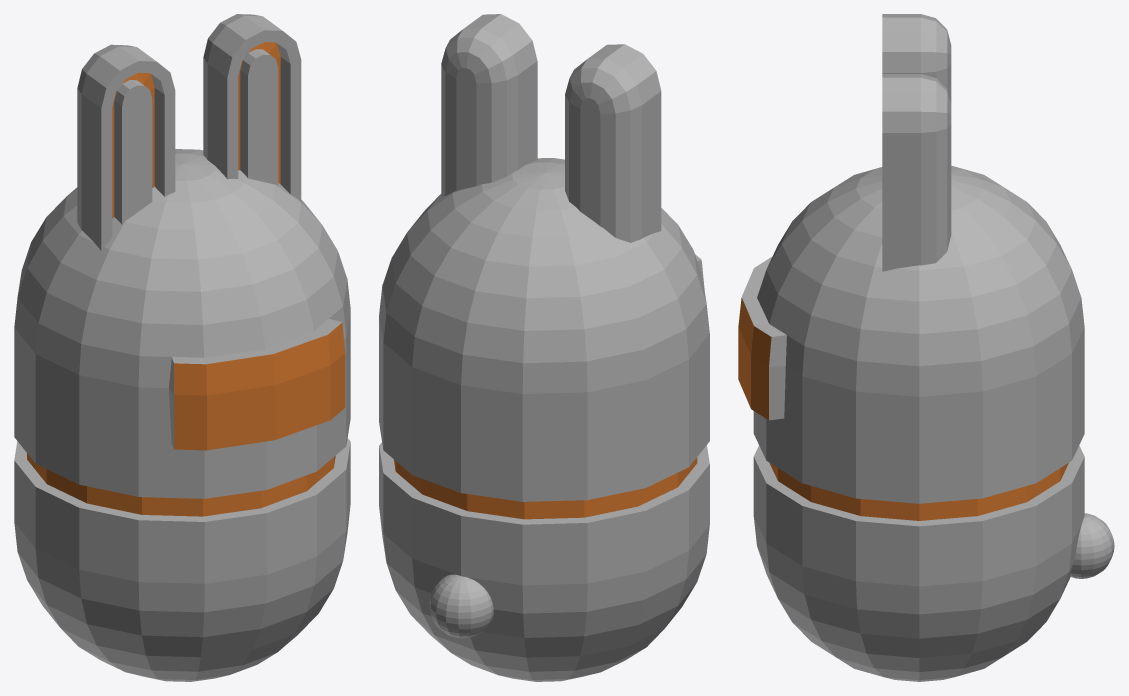
Rendered from bots.fbx.
The picture shows the model from 3 angles, left to right: view 1: azimuth 30°, elevation 25°; view 2: azimuth 150°, elevation 25°; view 3: azimuth 270°, elevation 25°; orthographic projection. The views are drawn at different scales.
Visible parts, largest first — view 1: rabbit; view 2: rabbit; view 3: rabbit.
Boxes of the visible parts, <box> form: rabbit: <box>14,14,350,681</box>; rabbit: <box>379,14,709,681</box>; rabbit: <box>738,14,1114,681</box>.
Size of the model in its own units: 2 by 2.27 by 4.13.
